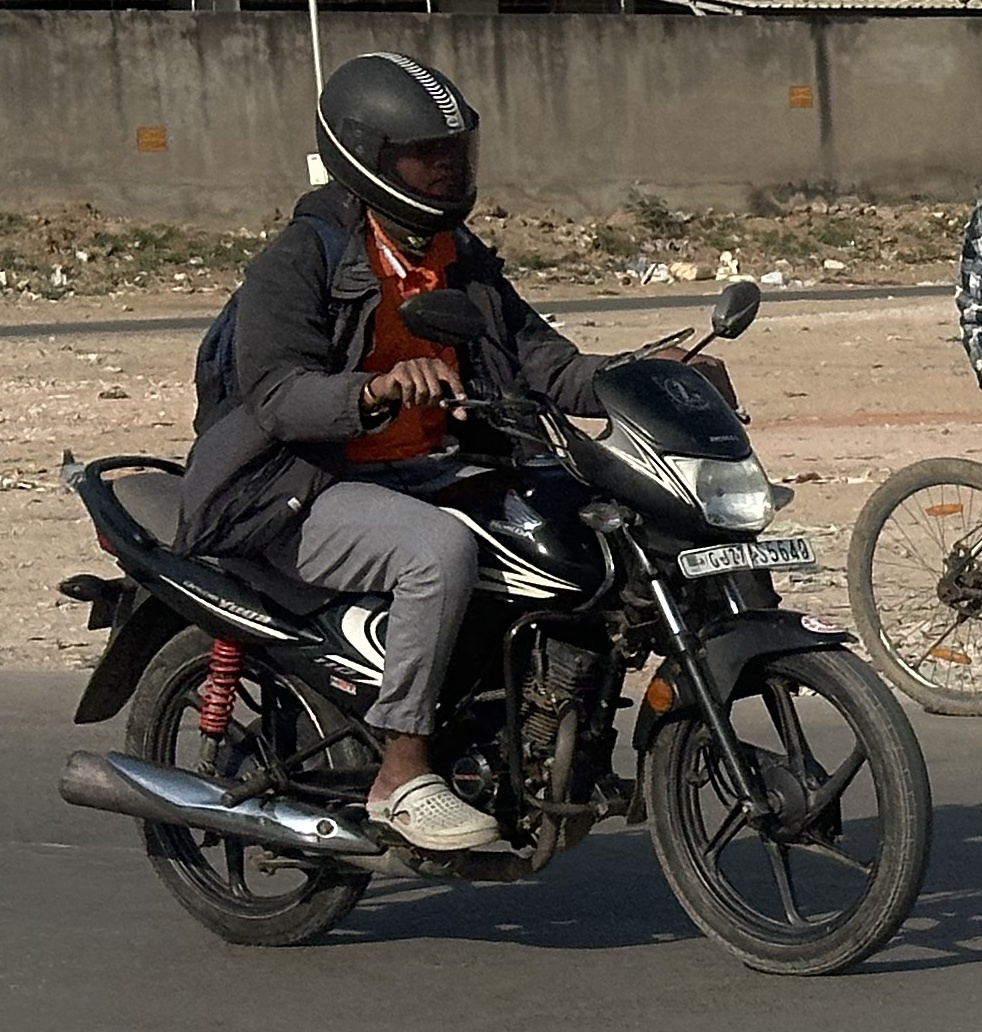BikeWithRider: (38, 36, 945, 984)
Helmet: (298, 39, 500, 253)
